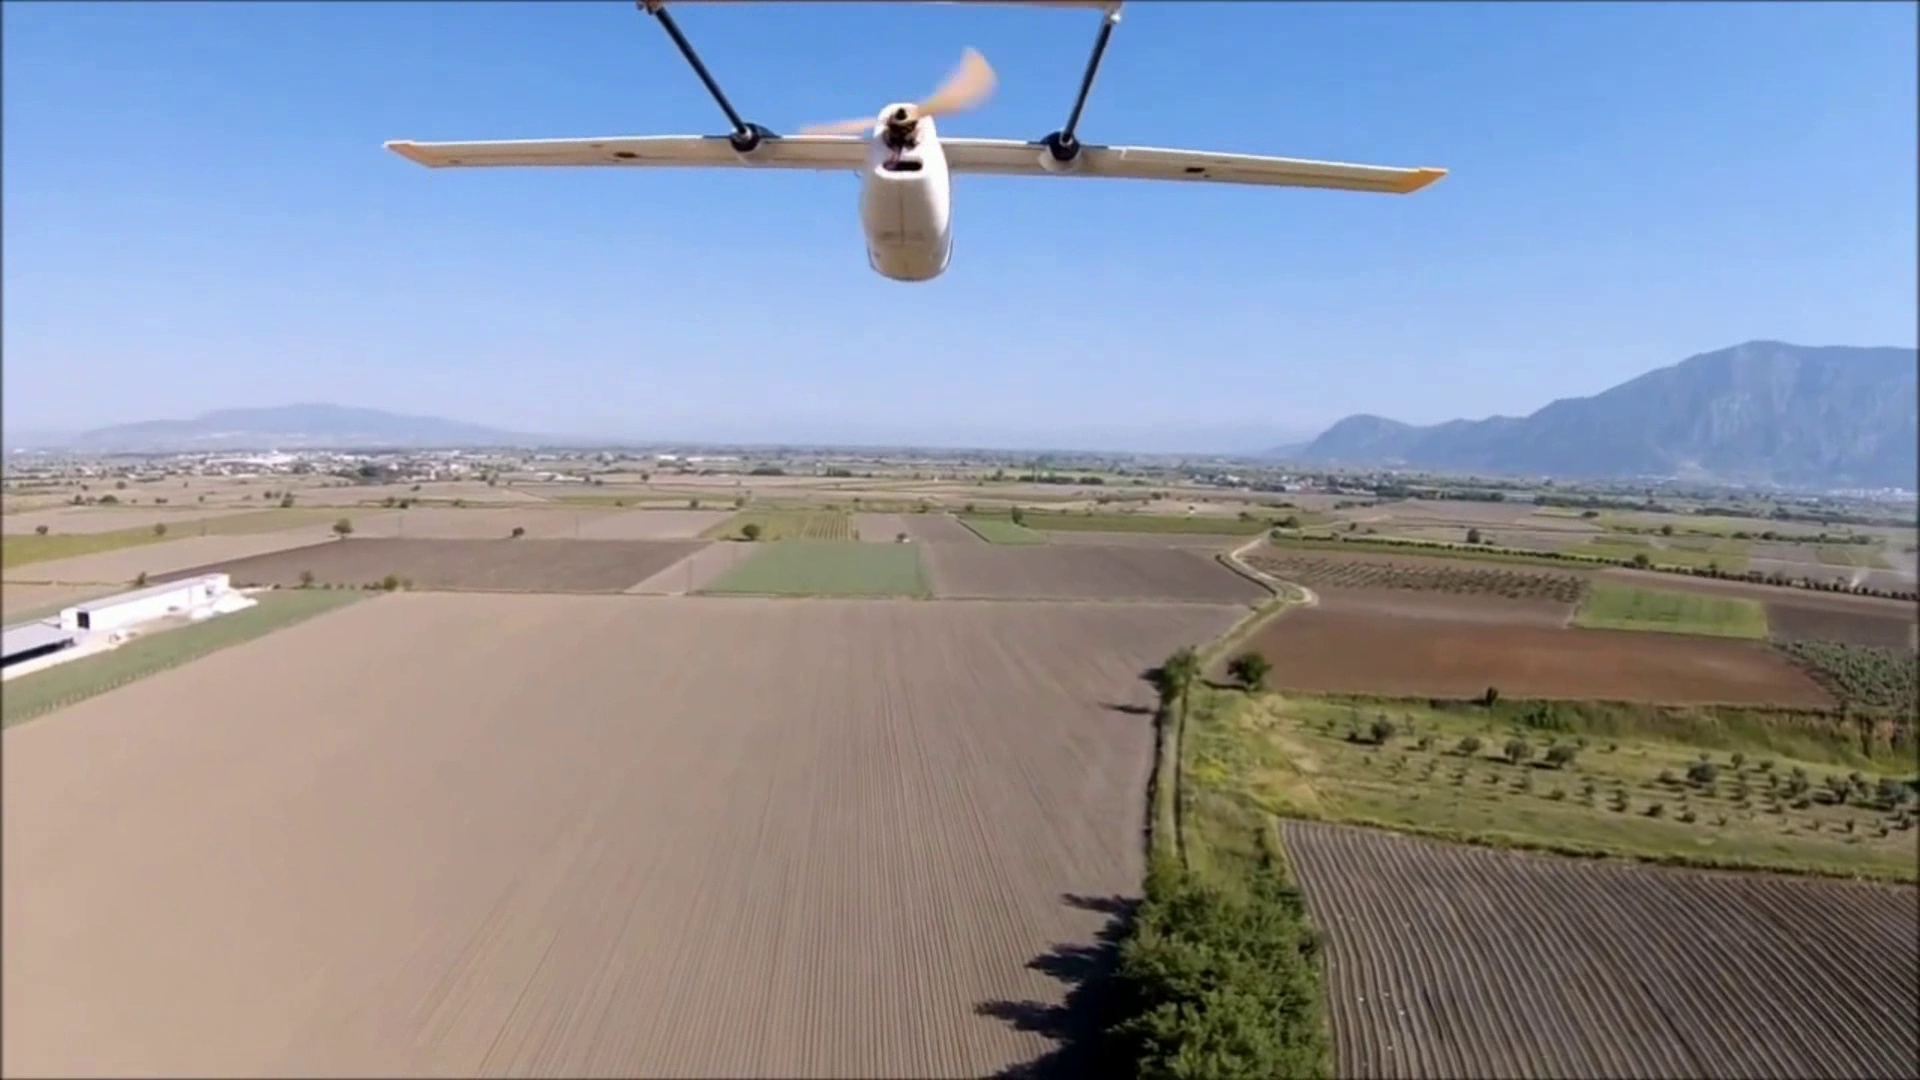airplane: (386, 3, 1444, 282)
